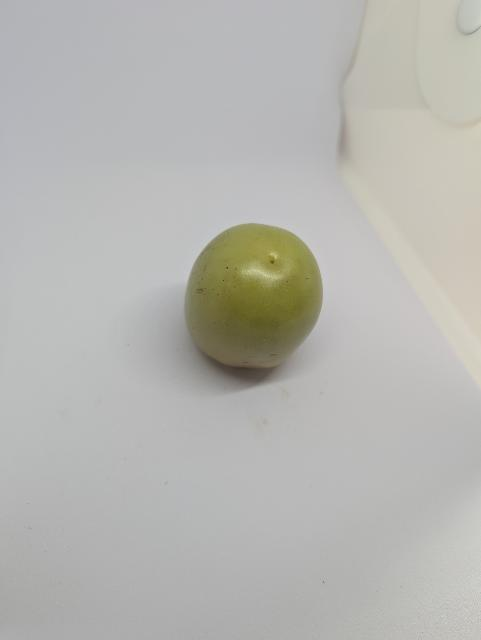green: (177, 213, 332, 387)
